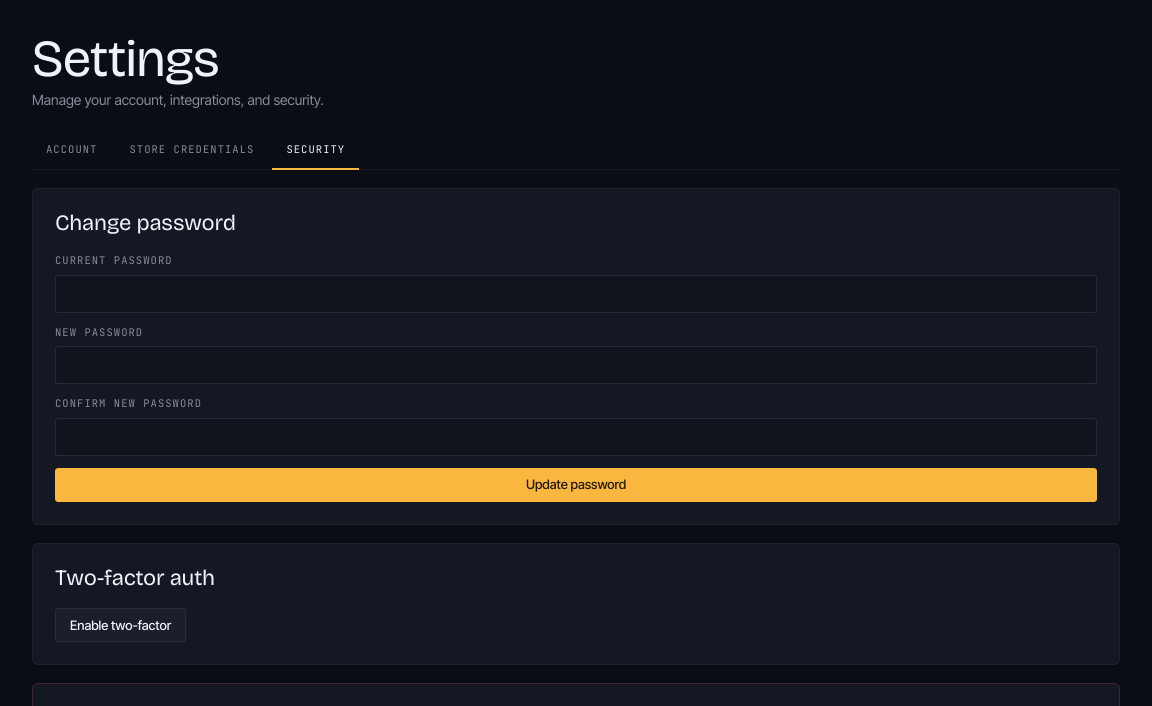
Test: SettingsPage - the 2FA handlers report their failures › renders the catalog message when starting the setup fails
Click the button "Enable two-factor". click: [121, 625]
box: [55,608,186,642]
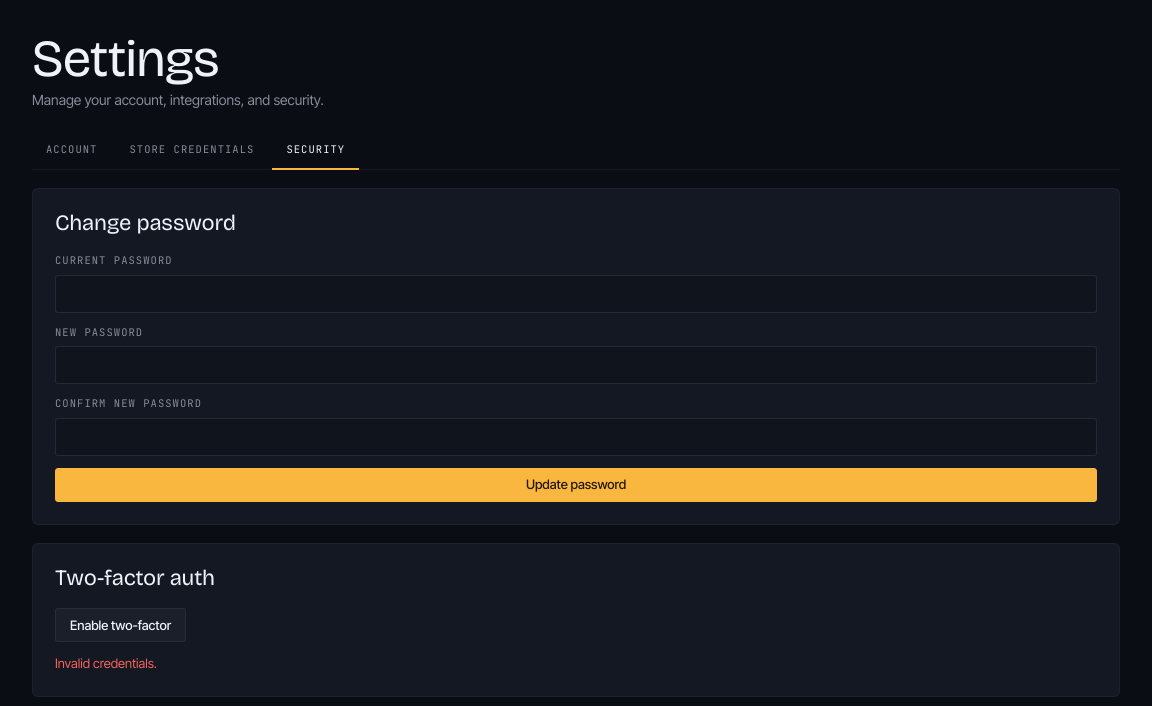
Now the text "Invalid credentials." is shown, box [55,655,157,671]
